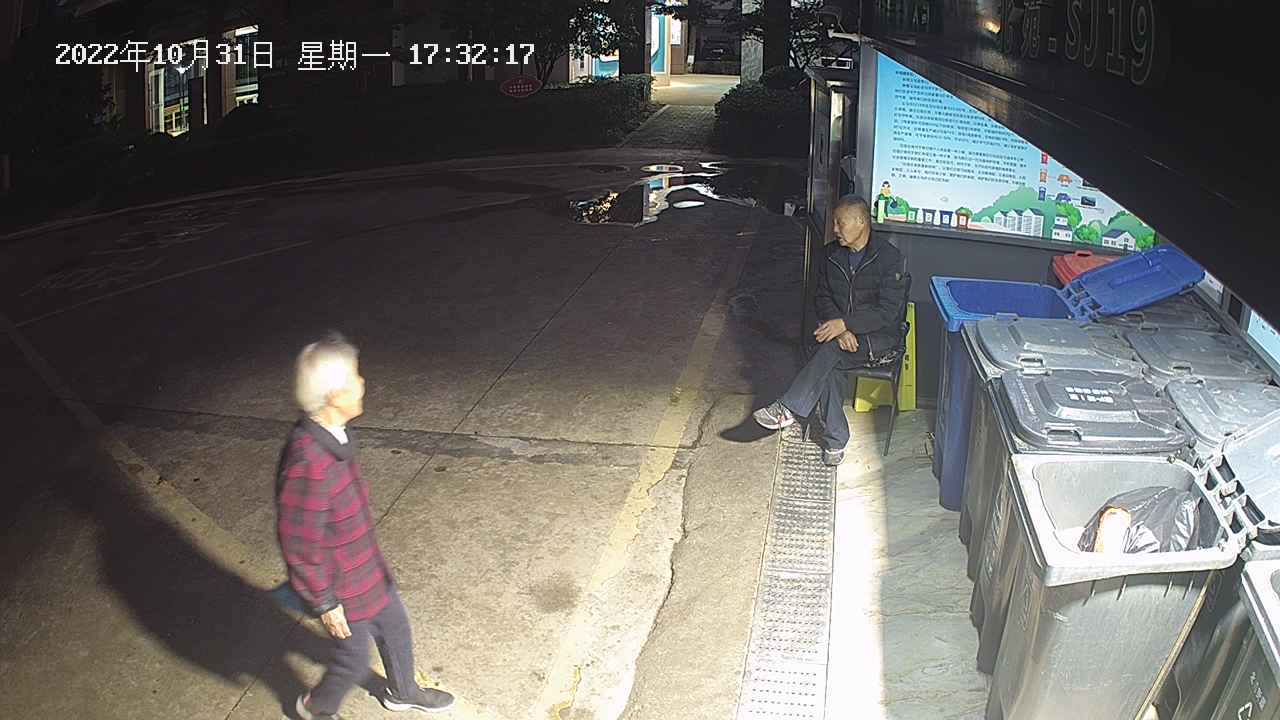person: (271, 327, 456, 720), (753, 192, 912, 470)
